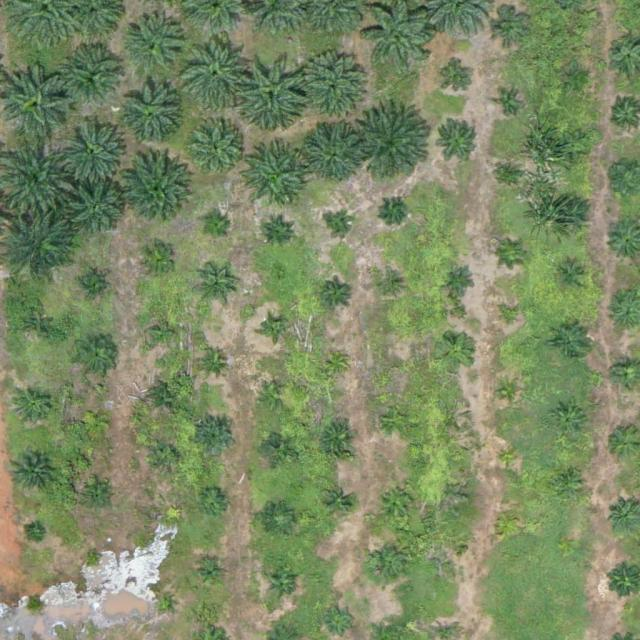Healthy: (235, 56, 313, 135), (178, 35, 256, 114), (358, 107, 436, 185), (295, 52, 366, 123), (120, 158, 191, 229), (239, 146, 309, 217), (59, 114, 129, 185), (2, 64, 72, 135), (185, 118, 248, 181), (64, 45, 127, 108), (302, 122, 364, 185), (124, 16, 186, 79), (119, 84, 181, 146), (70, 183, 125, 238), (144, 314, 184, 354), (561, 133, 592, 165)
Small: (10, 448, 57, 496), (435, 117, 482, 164), (197, 417, 237, 457), (489, 8, 529, 48), (15, 387, 54, 427), (137, 241, 177, 280), (367, 543, 406, 583), (553, 322, 593, 361), (554, 197, 594, 236), (77, 338, 116, 377), (196, 270, 235, 309), (319, 420, 358, 459), (378, 483, 417, 522), (551, 403, 590, 442), (438, 333, 477, 372), (17, 306, 56, 345), (265, 504, 296, 536), (557, 262, 588, 294), (263, 431, 294, 463), (151, 382, 182, 414), (444, 65, 475, 97), (198, 346, 229, 378), (151, 441, 182, 473), (76, 270, 107, 302), (81, 407, 112, 439), (199, 486, 230, 518), (323, 486, 354, 518), (325, 605, 356, 637), (268, 569, 299, 601), (263, 217, 294, 248), (322, 278, 353, 309), (553, 466, 584, 497), (445, 265, 476, 296), (382, 406, 413, 437), (259, 381, 290, 412), (201, 214, 232, 245), (85, 483, 116, 514), (196, 560, 227, 591), (503, 243, 527, 267), (382, 198, 406, 222), (565, 66, 589, 90), (499, 306, 523, 330), (497, 380, 521, 404), (499, 447, 523, 471), (496, 510, 520, 534), (325, 352, 349, 376), (264, 317, 288, 341), (331, 214, 354, 238), (379, 275, 402, 299), (386, 356, 409, 380), (438, 542, 461, 566), (498, 94, 521, 117), (500, 163, 523, 186), (86, 549, 102, 565), (28, 526, 43, 542), (156, 595, 172, 610)
